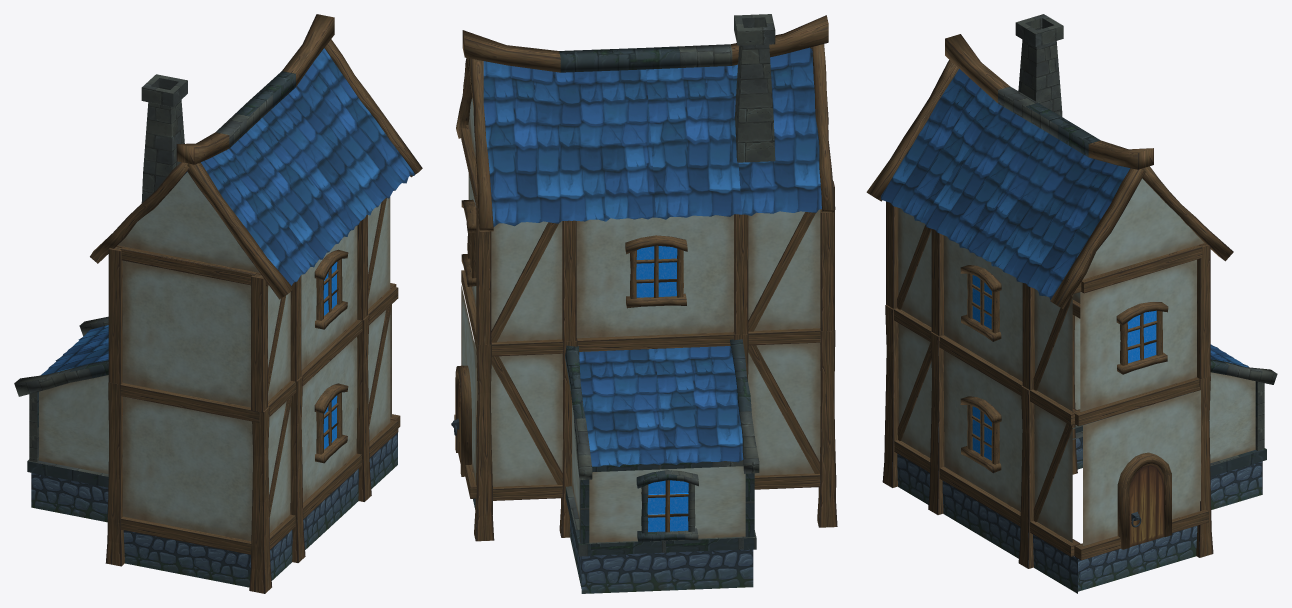
Rendered from house3.fbx.
3 views of the same model, side by side, from view 1: azimuth 30°, elevation 25°; view 2: azimuth 150°, elevation 25°; view 3: azimuth 270°, elevation 25° (orthographic). The views are drawn at different scales.
Visible parts, largest first — view 1: RockTileBottom.089; view 2: RockTileBottom.089; view 3: RockTileBottom.089.
Boxes of the visible parts, x1=… form: RockTileBottom.089: x1=14, y1=14, x2=422, y2=593; RockTileBottom.089: x1=451, y1=14, x2=837, y2=593; RockTileBottom.089: x1=866, y1=14, x2=1277, y2=593.
Size of the model in its own units: 1329 by 1682 by 1397.
